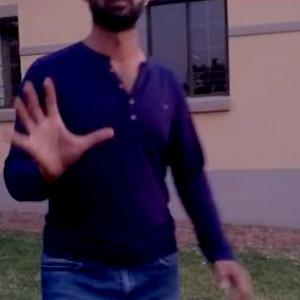follow_hand: (0, 71, 119, 190)
